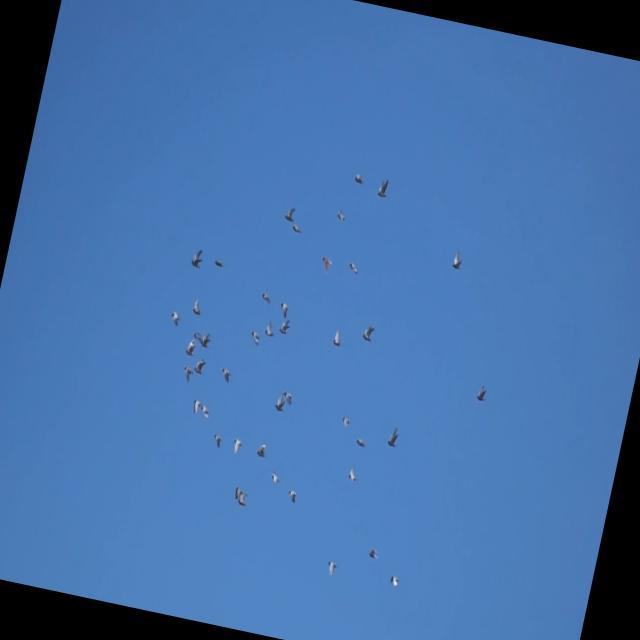bird: (190, 328, 213, 351), (186, 247, 205, 274), (374, 176, 392, 200), (275, 316, 293, 339), (246, 326, 263, 350), (384, 424, 401, 448), (167, 306, 183, 330), (181, 337, 197, 361), (190, 355, 206, 379), (329, 327, 344, 351), (253, 440, 268, 464), (361, 325, 378, 346), (180, 360, 194, 385), (188, 298, 204, 319), (234, 487, 249, 509), (271, 395, 288, 414), (216, 364, 233, 382), (276, 300, 291, 320), (473, 383, 488, 403), (282, 204, 296, 225), (263, 319, 276, 341), (449, 251, 464, 270), (319, 254, 334, 273), (323, 557, 338, 576), (198, 402, 212, 422), (334, 206, 349, 224), (280, 389, 295, 407), (286, 485, 299, 505), (352, 170, 366, 188), (188, 396, 202, 414), (366, 544, 380, 562), (387, 572, 401, 590), (230, 434, 242, 454), (211, 430, 223, 449), (258, 290, 273, 305), (345, 465, 357, 483), (290, 221, 304, 236), (339, 414, 352, 429), (348, 260, 360, 274), (211, 258, 225, 269), (233, 484, 242, 501), (355, 435, 366, 447), (269, 471, 280, 483)
